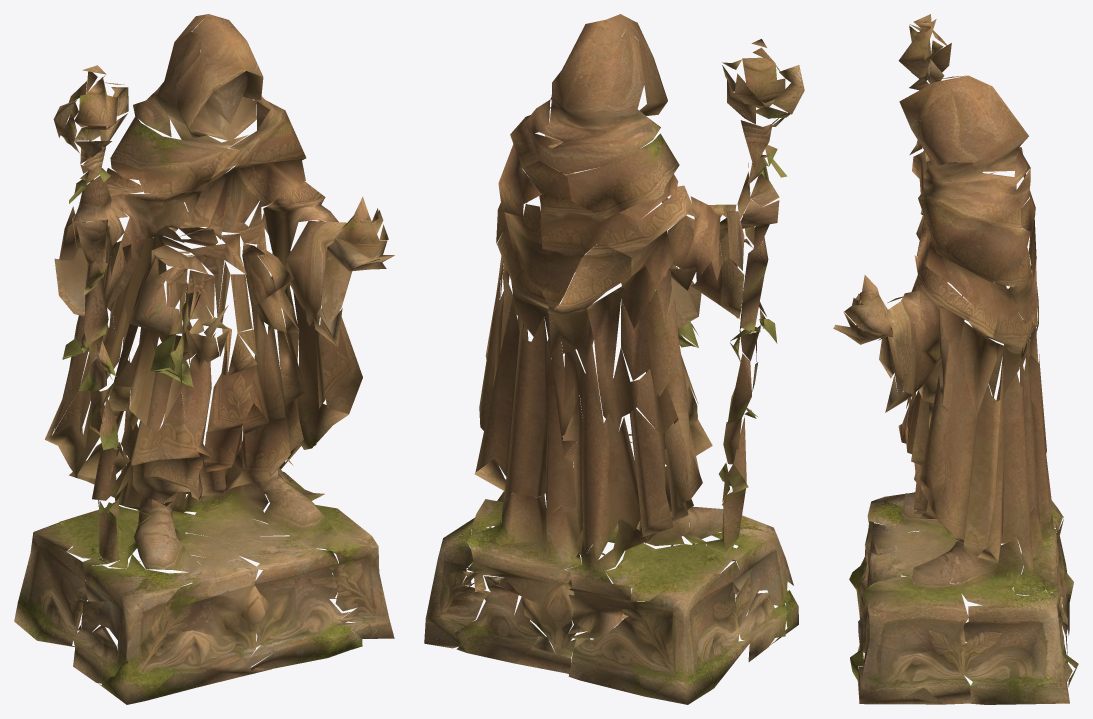
File: p_healer_statue.glb
The picture shows the model from 3 angles, left to right: view 1: azimuth 30°, elevation 25°; view 2: azimuth 150°, elevation 25°; view 3: azimuth 270°, elevation 25°; orthographic projection. The views are drawn at different scales.
Visible parts, largest first — view 1: tripo_node_f28b4e13-e888-4390-a053-21b6a37f4ec7; view 2: tripo_node_f28b4e13-e888-4390-a053-21b6a37f4ec7; view 3: tripo_node_f28b4e13-e888-4390-a053-21b6a37f4ec7.
Part boxes in pixels (left/top/right/bottom): tripo_node_f28b4e13-e888-4390-a053-21b6a37f4ec7: left=14, top=14, right=394, bottom=704; tripo_node_f28b4e13-e888-4390-a053-21b6a37f4ec7: left=424, top=14, right=804, bottom=704; tripo_node_f28b4e13-e888-4390-a053-21b6a37f4ec7: left=833, top=14, right=1078, bottom=704.
Size of the model in its own units: 0.5338 by 0.9958 by 0.3874.
Materials: 1 (1 with a texture image).
